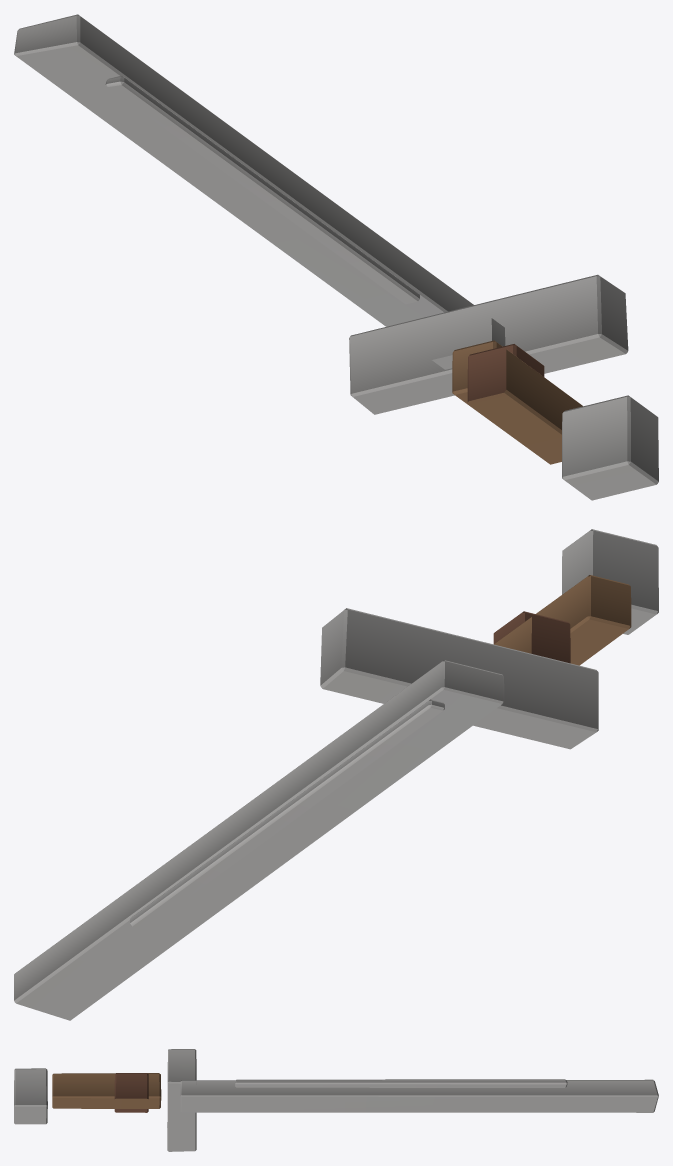
Rendered from sword.glb.
3 views of the same model, one above another, from view 1: azimuth 30°, elevation 25°; view 2: azimuth 150°, elevation 25°; view 3: azimuth 270°, elevation 25° (orthographic). The views are drawn at different scales.
Visible parts, largest first — view 1: Blade, Guard, Pommel, Grip, Fuller, Wrap; view 2: Blade, Guard, Fuller, Grip, Pommel, Wrap; view 3: Blade, Grip, Fuller, Guard, Pommel, Wrap.
Part boxes in pixels (left/top/right/bottom): Blade: left=14, top=14, right=505, bottom=369; Guard: left=349, top=274, right=628, bottom=414; Pommel: left=562, top=395, right=658, bottom=500; Grip: left=452, top=340, right=582, bottom=464; Fuller: left=105, top=75, right=419, bottom=304; Wrap: left=467, top=344, right=544, bottom=402; Blade: left=14, top=660, right=504, bottom=1020; Guard: left=320, top=608, right=598, bottom=749; Fuller: left=130, top=699, right=444, bottom=930; Grip: left=494, top=575, right=631, bottom=665; Pommel: left=562, top=529, right=658, bottom=634; Wrap: left=493, top=611, right=570, bottom=663; Blade: left=180, top=1079, right=658, bottom=1112; Grip: left=52, top=1073, right=161, bottom=1108; Fuller: left=235, top=1079, right=567, bottom=1087; Guard: left=167, top=1049, right=196, bottom=1151; Pommel: left=14, top=1068, right=47, bottom=1124; Wrap: left=114, top=1073, right=148, bottom=1112.
Size of the model in its own units: 0.1949 by 0.0507 by 0.7674.
